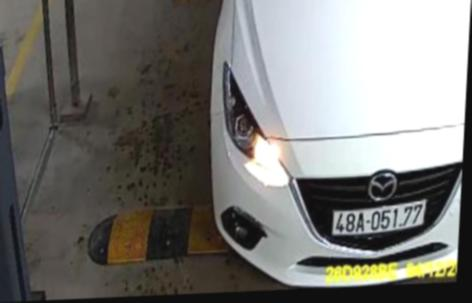License_Plate: (328, 196, 429, 242)
